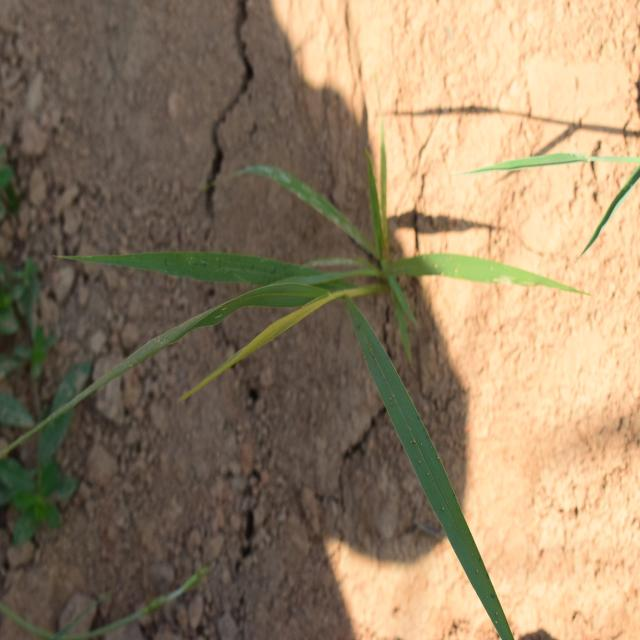green_foxtail: (98, 148, 511, 562)
